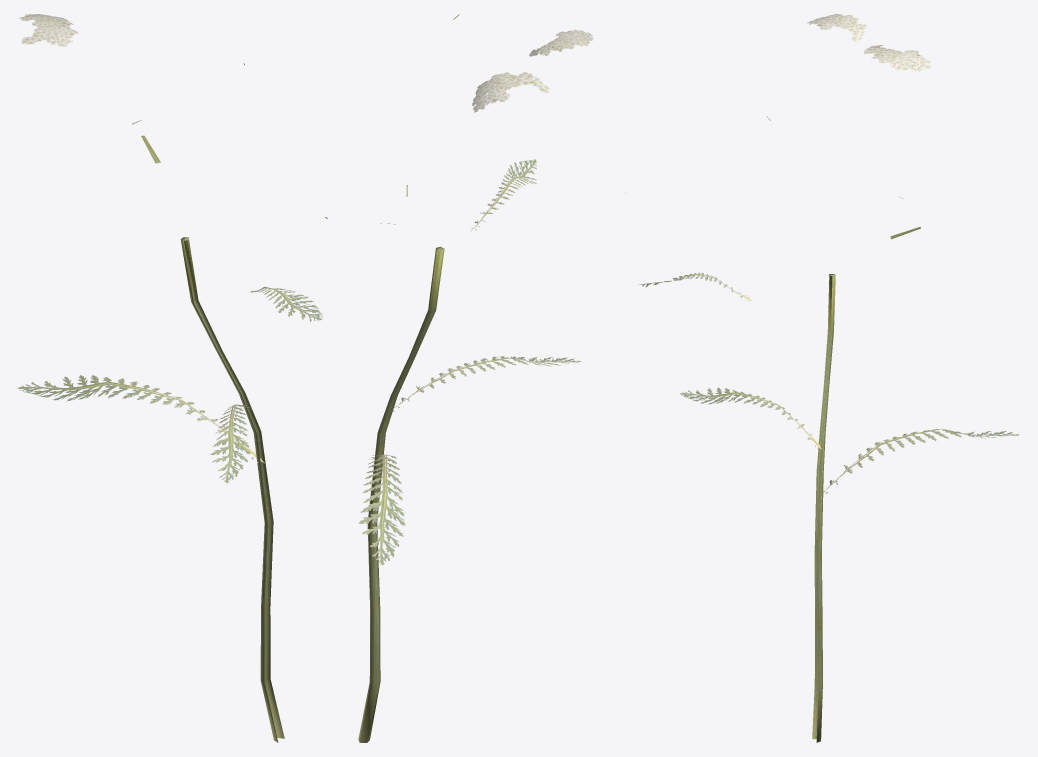
File: flower_white_shadow.glb
3 views of the same model, side by side, from view 1: azimuth 30°, elevation 25°; view 2: azimuth 150°, elevation 25°; view 3: azimuth 270°, elevation 25° (orthographic). The views are drawn at different scales.
Visible parts, largest first — view 1: bq_Flower_Achillea-millefolium_D_spring-summer; view 2: bq_Flower_Achillea-millefolium_D_spring-summer; view 3: bq_Flower_Achillea-millefolium_D_spring-summer.
Part boxes in pixels (<box>): bq_Flower_Achillea-millefolium_D_spring-summer: <box>17,14,327,742</box>; bq_Flower_Achillea-millefolium_D_spring-summer: <box>358,14,593,742</box>; bq_Flower_Achillea-millefolium_D_spring-summer: <box>639,14,1019,742</box>.
Size of the model in its own units: 0.1044 by 0.314 by 0.18.
3 materials, 3 textured.
